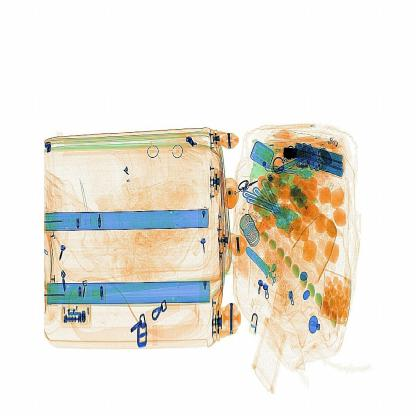scissors: (276, 141, 300, 178)
